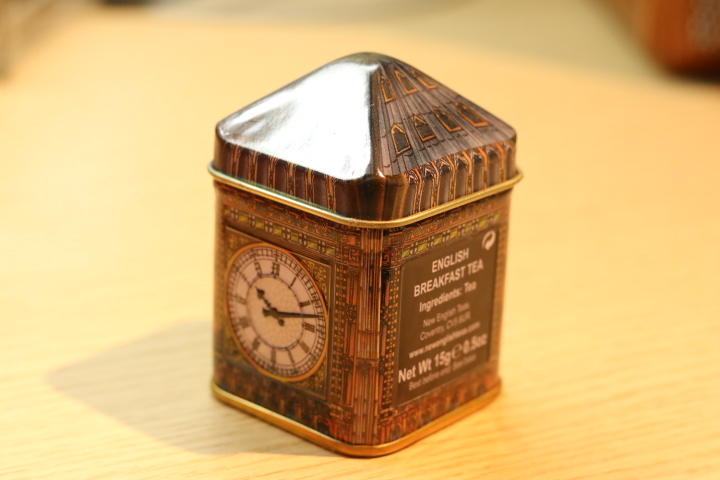Big Ben: (196, 39, 545, 467)
